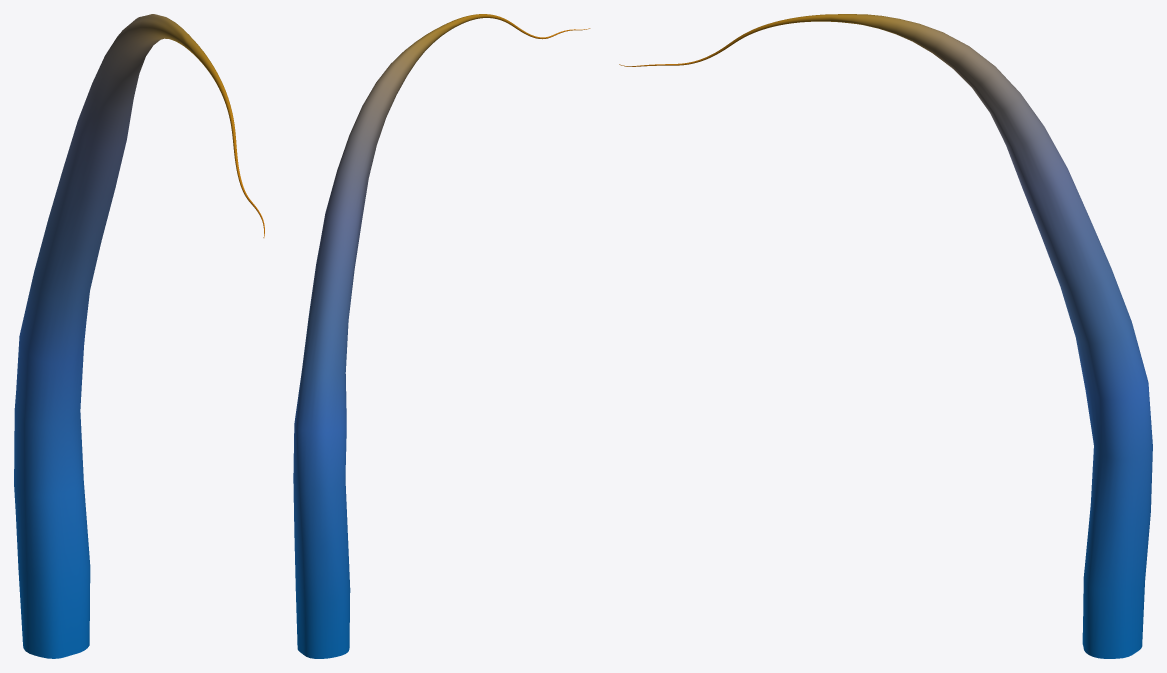
The model's file is Tentacle_F.fbx.
3 views of the same model, side by side, from view 1: azimuth 30°, elevation 25°; view 2: azimuth 150°, elevation 25°; view 3: azimuth 270°, elevation 25° (orthographic). The views are drawn at different scales.
Parts seen in each view (by area): view 1: Tentacle_F_LOD0; view 2: Tentacle_F_LOD0; view 3: Tentacle_F_LOD0.
Part boxes in pixels (bbox=[...]): Tentacle_F_LOD0: bbox=[14, 14, 264, 658]; Tentacle_F_LOD0: bbox=[293, 14, 590, 658]; Tentacle_F_LOD0: bbox=[619, 14, 1152, 658].
Size of what is drawn, in the model's own units: 13.55 by 90.15 by 69.54.
